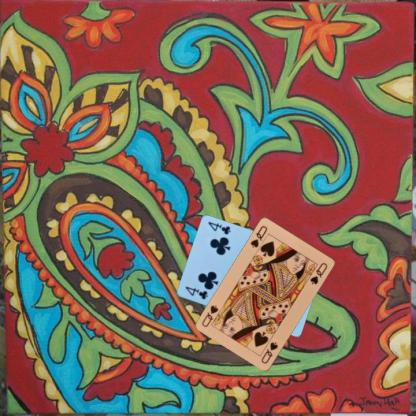4c: (183, 284, 209, 301)
Qs: (248, 223, 269, 249), (259, 340, 279, 365)
